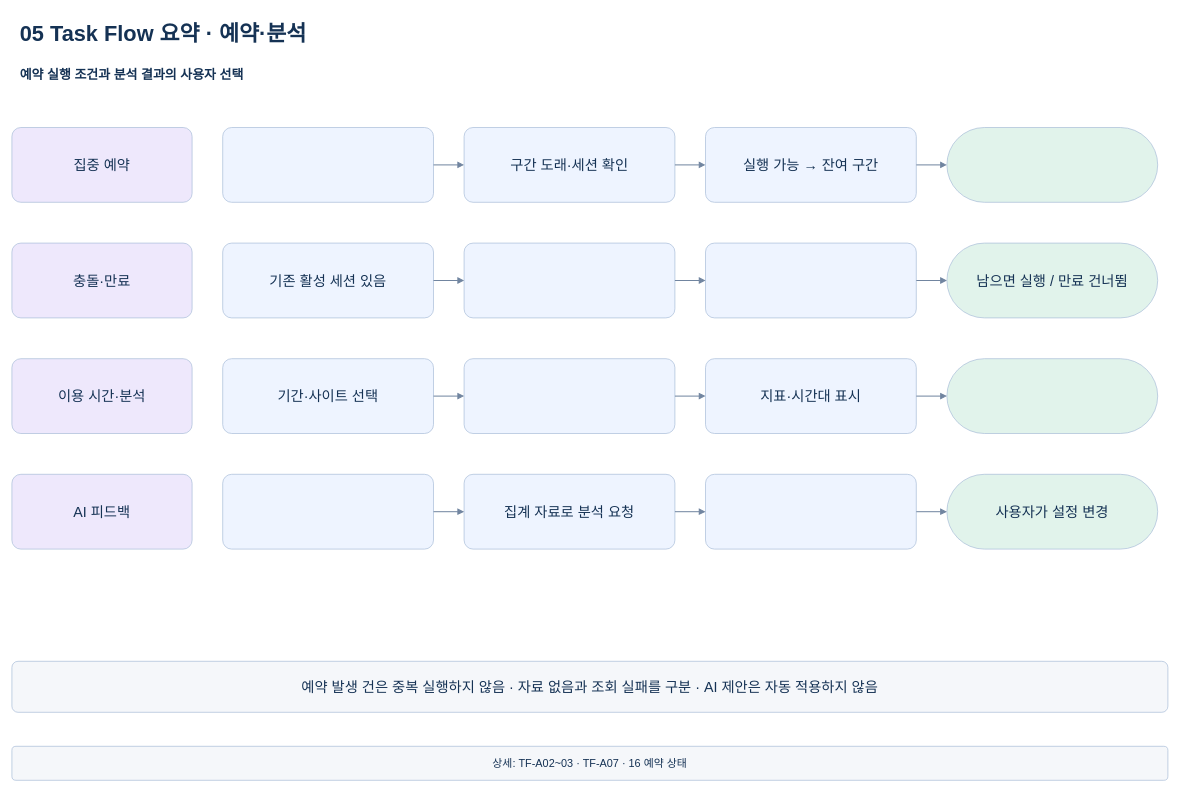
The diagram is 1180 pixels wide and 792 high, and some of its shapes have lost their labels. The shapes that lost their labels are listed below. From the top down, each one's centre as x and y in pixels, then its label:
At point 328,164: "요일·시간 저장".
At point 1052,164: "고정 종료·결과 저장".
At point 569,280: "기존 세션 유지·대기".
At point 810,280: "종료 후 잔여 시간 확인".
At point 569,396: "기록 조회·집계".
At point 1052,396: "관련 기록 확인".
At point 328,511: "전송 항목 확인·동의".
At point 810,511: "근거·제안 확인".
